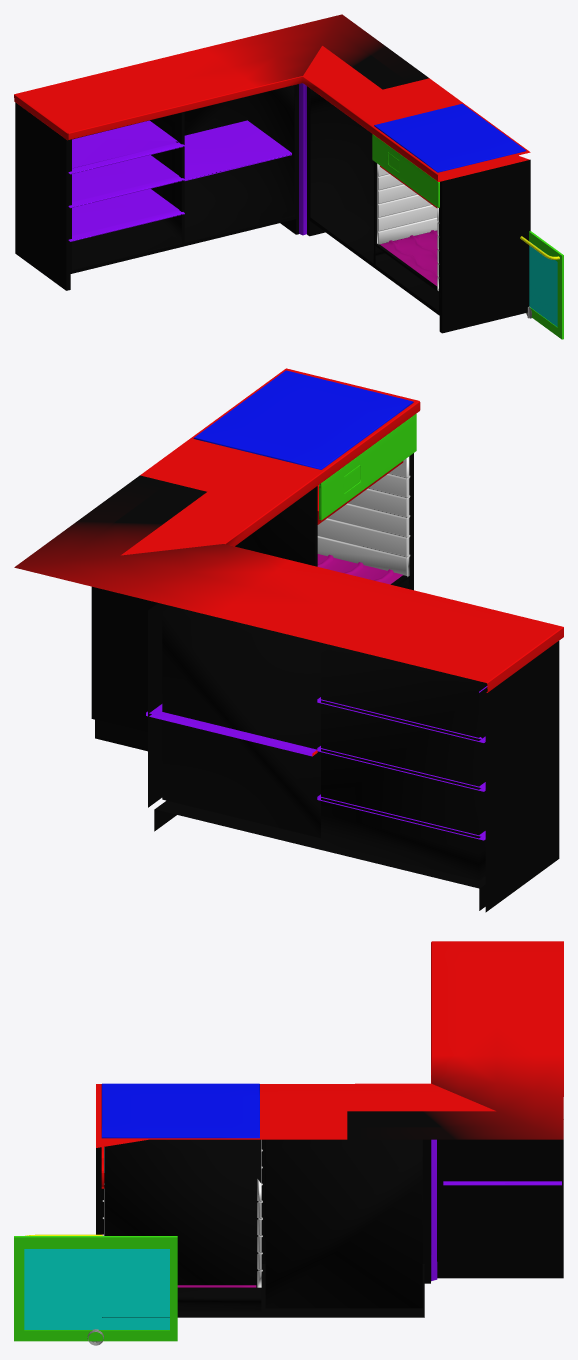
File: SM_Kitchen_Corner.fbx
3 renders of one model, top to bottom at view 1: azimuth 30°, elevation 25°; view 2: azimuth 150°, elevation 25°; view 3: azimuth 270°, elevation 25°, orthographic. The views are drawn at different scales.
Visible parts, largest first — view 1: Kitchen_Corner, Oven_Lid; view 2: Kitchen_Corner; view 3: Kitchen_Corner, Oven_Lid.
Boxes of the visible parts, x1,y1,x2,y2 form: Kitchen_Corner: (14, 14, 530, 333); Oven_Lid: (520, 231, 563, 339); Kitchen_Corner: (14, 368, 563, 912); Kitchen_Corner: (96, 941, 563, 1317); Oven_Lid: (14, 1234, 177, 1341).
Size of the model in its own units: 195 by 226 by 93.64.
